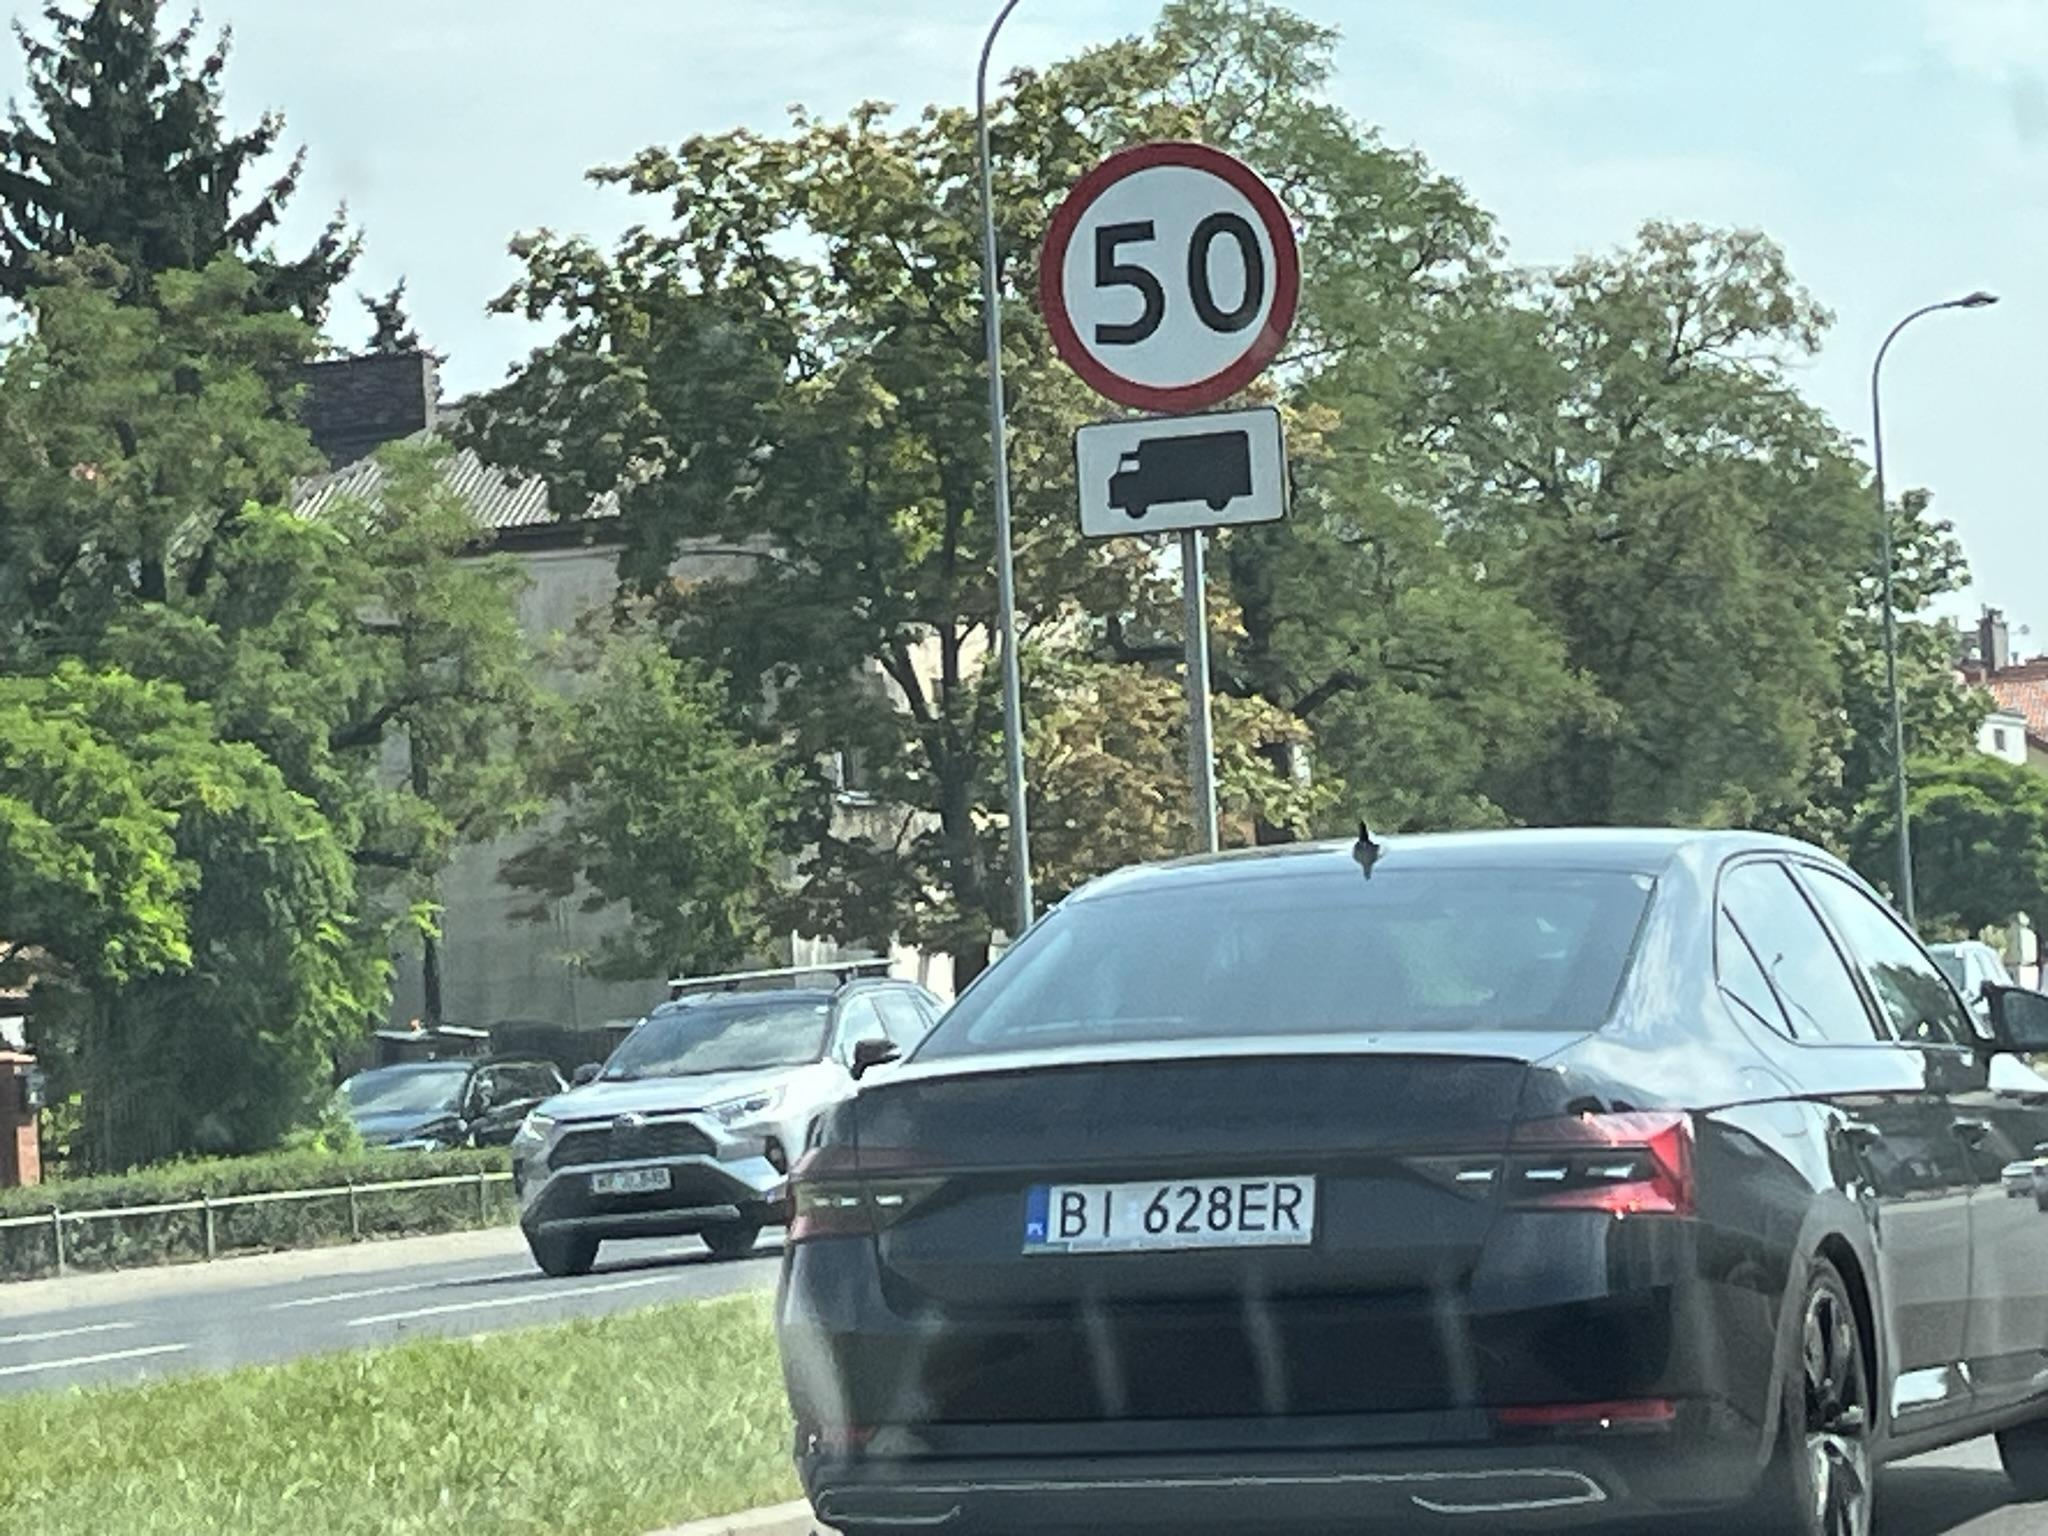other: (1077, 423, 1285, 534)
prohibitory: (1035, 136, 1301, 411)
